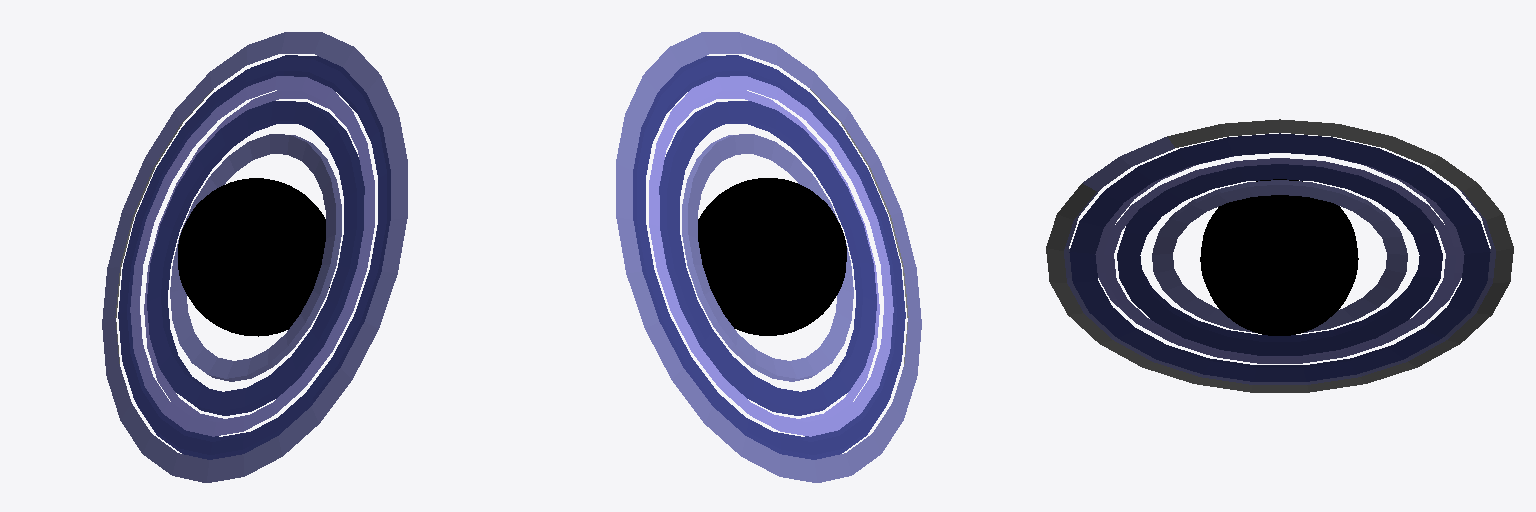
File: ring3.obj
3 views of the same model, side by side, from view 1: azimuth 30°, elevation 25°; view 2: azimuth 150°, elevation 25°; view 3: azimuth 270°, elevation 25° (orthographic).
Visible parts, largest first — view 1: pTorus1, pSphere1; view 2: pTorus1, pSphere1; view 3: pTorus1, pSphere1.
Part boxes in pixels (x1,y1,x2,y2): pTorus1: (102,32,407,482); pSphere1: (178,178,329,336); pTorus1: (616,32,921,482); pSphere1: (698,178,846,335); pTorus1: (1046,119,1513,392); pSphere1: (1200,179,1358,335).
Bounding box in the file's own units: 24.89 × 44.48 × 51.07.